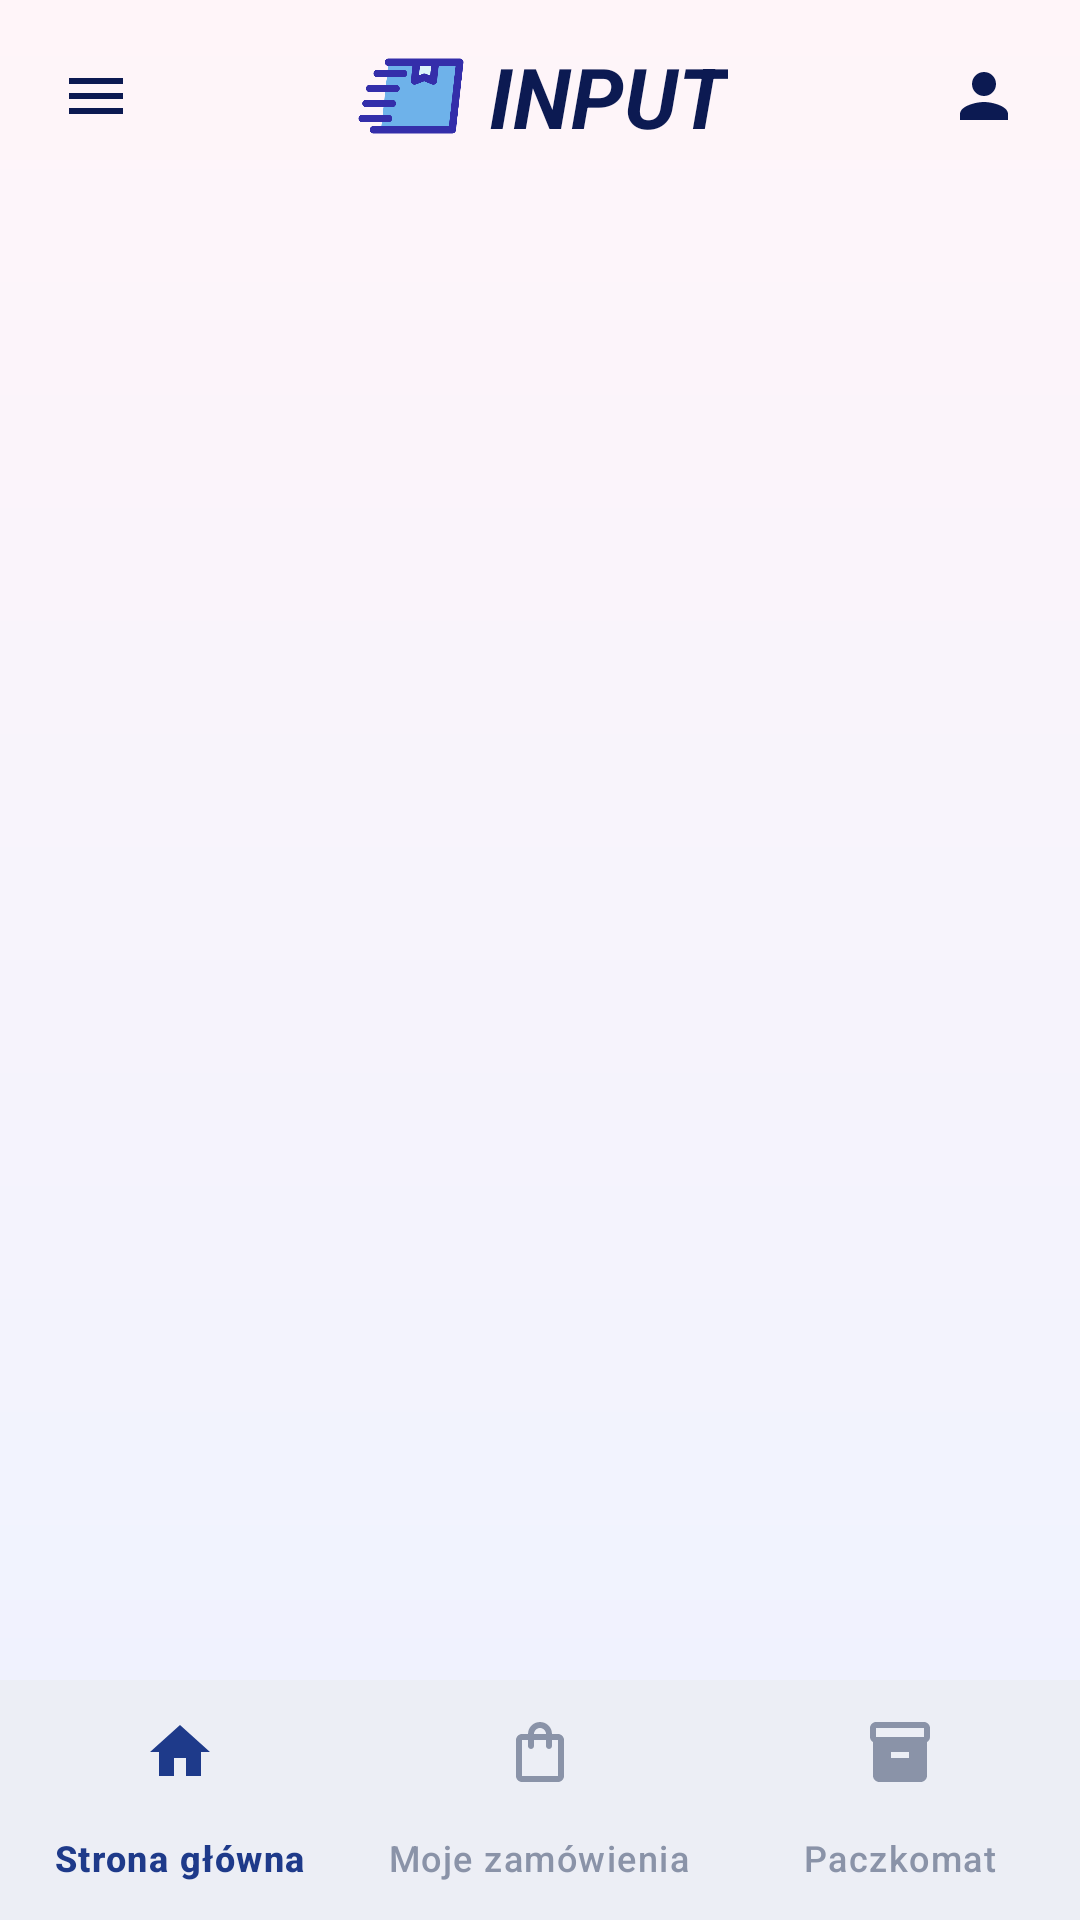

Icon click points for this 1080px x 1920px phone screenshot, format (x,y):
Menu: (96,96)
Profil: (984,96)
